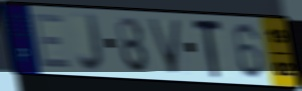6: (232, 20, 266, 82)
8: (115, 15, 150, 75)
E: (30, 12, 74, 71)
J: (76, 11, 106, 75)
T: (192, 18, 225, 81)
V: (145, 17, 184, 76)
